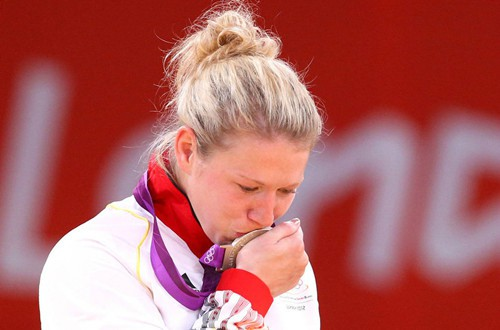face: (192, 136, 310, 252)
